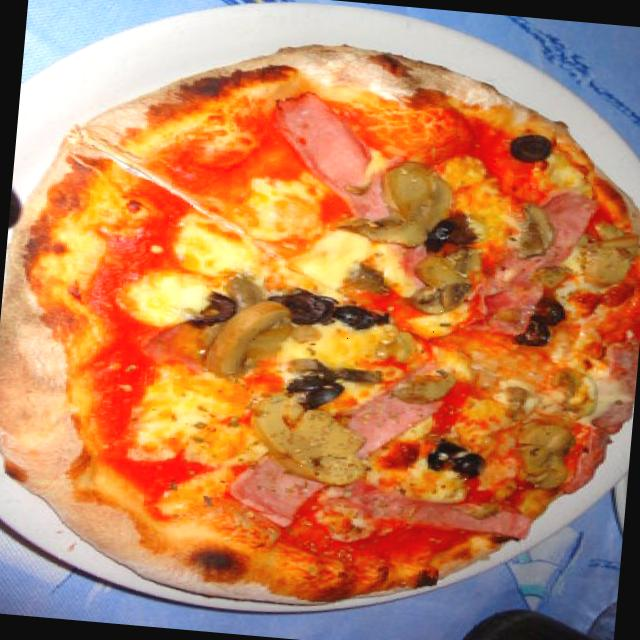Olive: (278, 364, 354, 409), (266, 286, 342, 330), (422, 436, 488, 482), (412, 212, 460, 258), (191, 288, 240, 331), (504, 130, 556, 166), (332, 300, 387, 334), (524, 294, 568, 328), (511, 315, 556, 347)
cheese: (244, 180, 372, 288), (139, 363, 262, 475), (132, 210, 240, 323), (300, 318, 384, 369), (400, 457, 472, 507), (403, 308, 464, 350), (419, 342, 478, 383), (491, 375, 548, 417)
mushrooms: (246, 394, 375, 484), (206, 294, 300, 384), (367, 160, 458, 250), (403, 240, 488, 324), (569, 223, 640, 296), (512, 416, 580, 491), (505, 196, 559, 263), (542, 362, 600, 421)
pizza: (0, 44, 640, 603)
